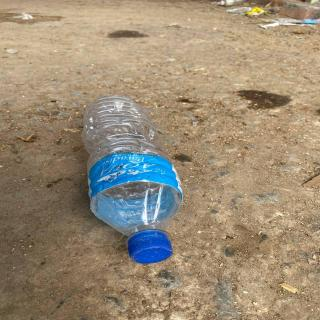Plastic-bottle: (81, 93, 189, 267)
